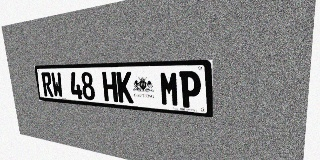4: (69, 72, 83, 99)
8: (80, 72, 95, 100)
H: (102, 72, 118, 102)
K: (116, 72, 134, 103)
M: (159, 71, 180, 107)
P: (179, 71, 201, 109)
R: (41, 72, 54, 97)
W: (51, 72, 64, 98)
